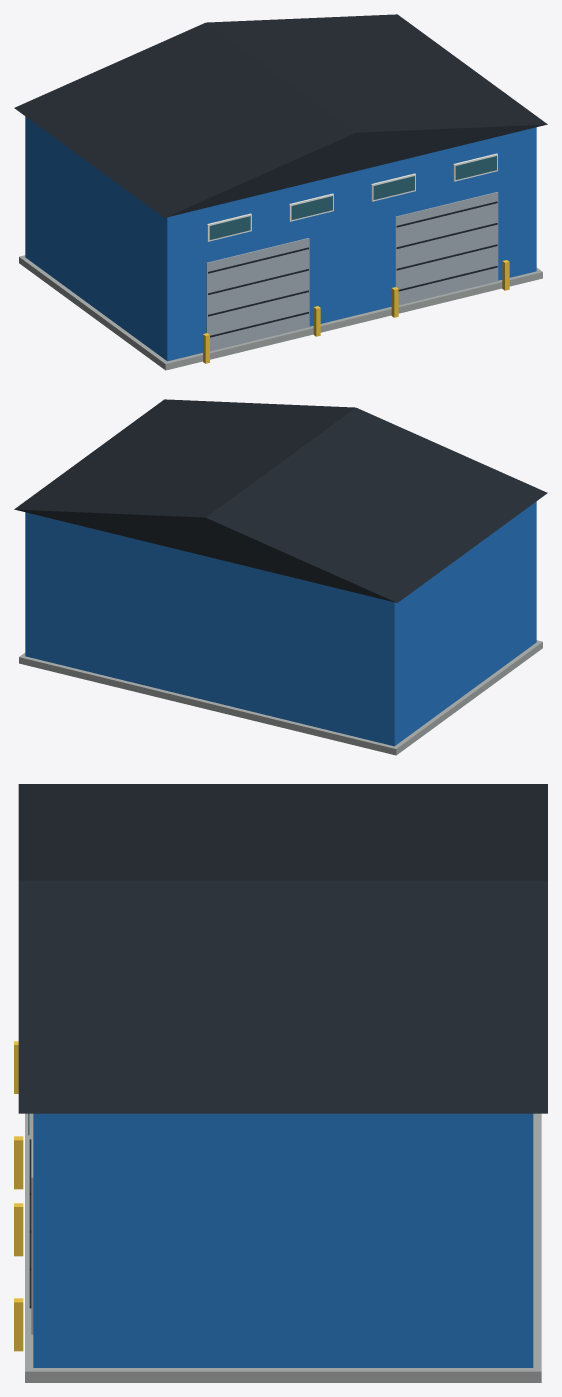
The model's file is warehouse.glb.
3 renders of one model, top to bottom at view 1: azimuth 30°, elevation 25°; view 2: azimuth 150°, elevation 25°; view 3: azimuth 270°, elevation 25°, orthographic. The views are drawn at different scales.
Visible parts, largest first — view 1: warehouse__static; view 2: warehouse__static; view 3: warehouse__static.
Boxes of the visible parts, left/top/right/bottom form: warehouse__static: left=14, top=14, right=547, bottom=370; warehouse__static: left=14, top=399, right=547, bottom=755; warehouse__static: left=14, top=784, right=547, bottom=1382.
Bounding box in the file's own units: 18.7 × 9 × 12.81.
